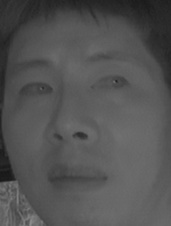eye: (92, 71, 132, 97), (15, 79, 55, 104)
mouth: (41, 158, 108, 196)
